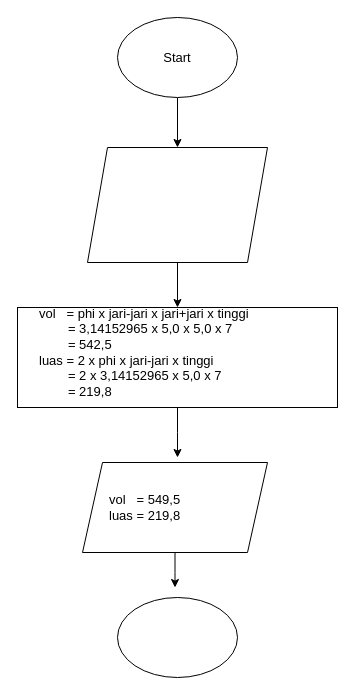
Some shapes in this 355 by 695 pixel diagram are drawn without their labels. Here are the shapes that lost their labels. From the top down, the centre of each, then its label:
At point (177, 204): "phi 3,14152965 jari-jari = 5,0 tinggi = 7".
At point (177, 637): "End".
